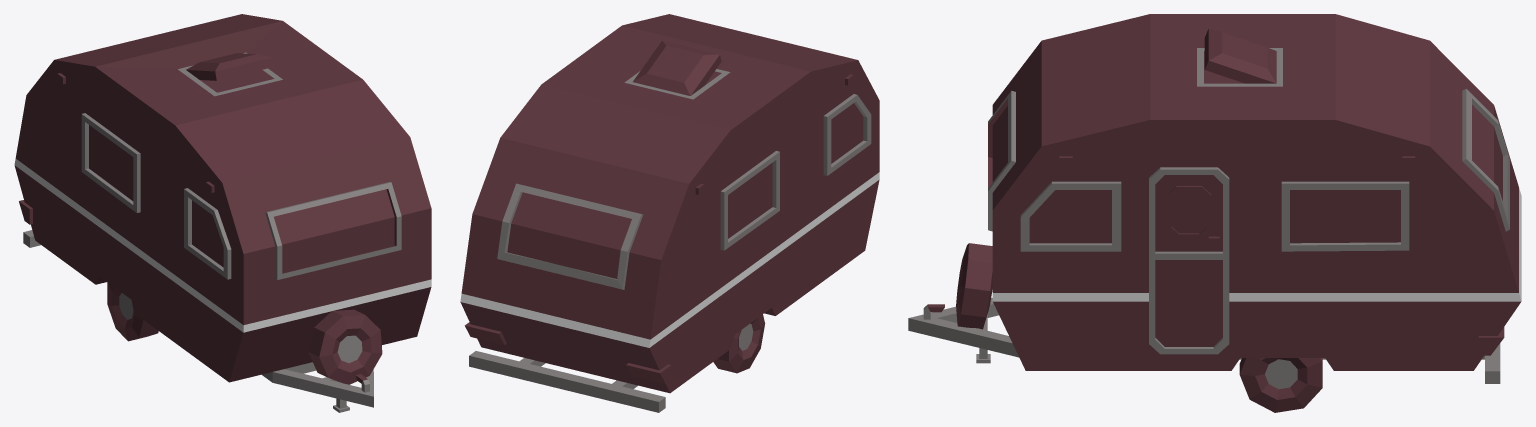
Rendered from car-caravan-small-standing-a.fbx.
The picture shows the model from 3 angles, left to right: view 1: azimuth 30°, elevation 25°; view 2: azimuth 150°, elevation 25°; view 3: azimuth 270°, elevation 25°; orthographic projection. The views are drawn at different scales.
Parts seen in each view (by area): view 1: car-caravan-small-standing-a; view 2: car-caravan-small-standing-a; view 3: car-caravan-small-standing-a.
Boxes of the visible parts, x1,y1,x2,y2 form: car-caravan-small-standing-a: (14, 14, 431, 412); car-caravan-small-standing-a: (460, 14, 879, 412); car-caravan-small-standing-a: (908, 14, 1521, 412).
Bounding box in the file's own units: 2.18 × 2.97 × 5.14.
